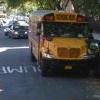Bus: (25, 5, 94, 75)
